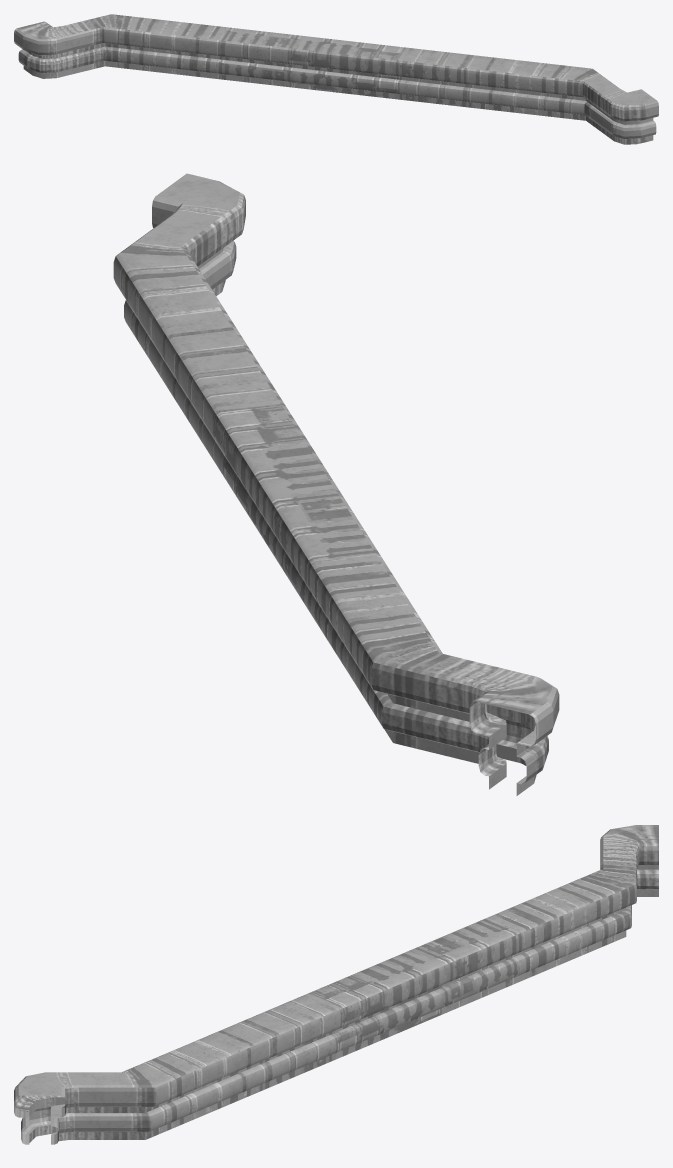
Rendered from SM_Trim4.fbx.
3 views of the same model, one above another, from view 1: azimuth 30°, elevation 25°; view 2: azimuth 150°, elevation 25°; view 3: azimuth 270°, elevation 25° (orthographic). The views are drawn at different scales.
Visible parts, largest first — view 1: SM_Trim4_LOD0; view 2: SM_Trim4_LOD0; view 3: SM_Trim4_LOD0.
Part boxes in pixels (x1,y1,x2,y2): SM_Trim4_LOD0: (14, 14, 658, 144); SM_Trim4_LOD0: (113, 173, 559, 795); SM_Trim4_LOD0: (14, 825, 658, 1144).
Bounding box in the file's own units: 410 × 410 × 40.71.
